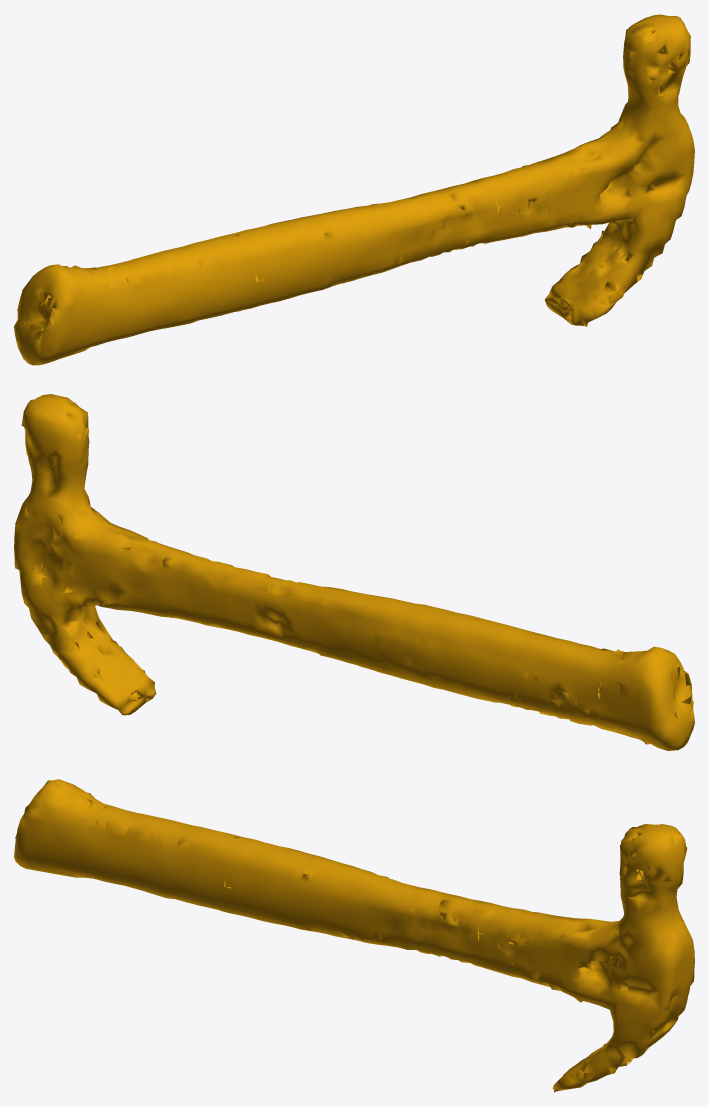
The model's file is model_origin.obj.
3 renders of one model, top to bottom at view 1: azimuth 30°, elevation 25°; view 2: azimuth 150°, elevation 25°; view 3: azimuth 330°, elevation 25°, orthographic.
Size of the model in its own units: 1.02 by 0.4121 by 0.1053.
